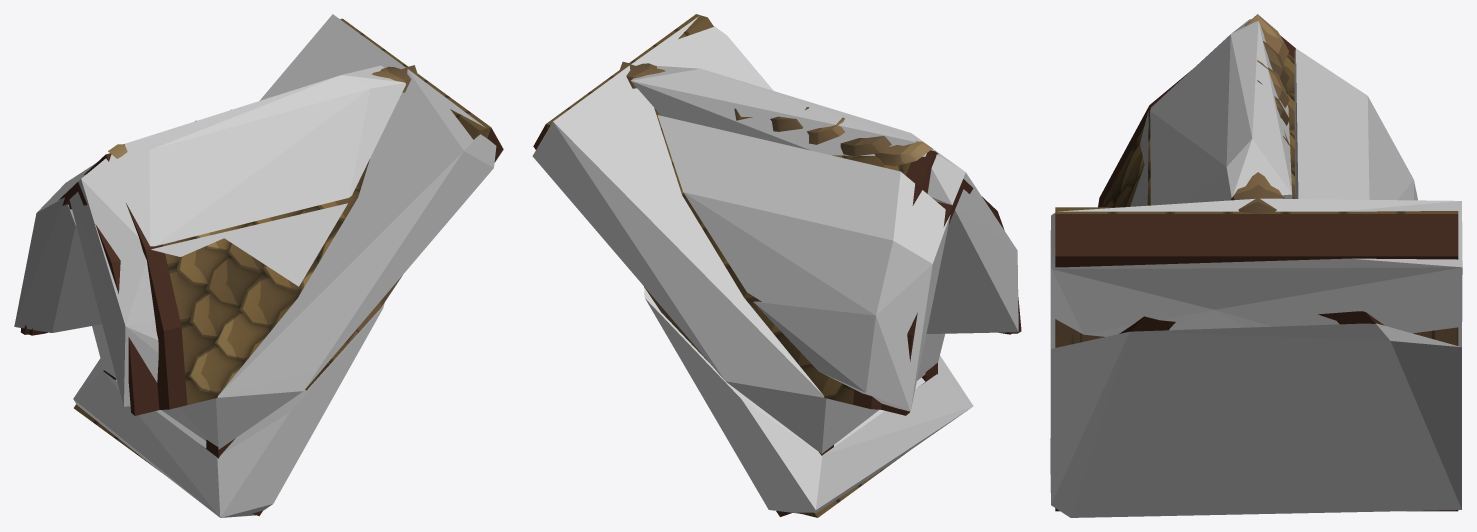
File: SM_Bld_Roof_Straight_Window_01.fbx
3 renders of one model, left to right at view 1: azimuth 30°, elevation 25°; view 2: azimuth 150°, elevation 25°; view 3: azimuth 270°, elevation 25°, orthographic. The views are drawn at different scales.
Visible parts, largest first — view 1: SM_Bld_Roof_Straight_Window_01_ConvexHulls, SM_Bld_Roof_Straight_Window_01; view 2: SM_Bld_Roof_Straight_Window_01_ConvexHulls, SM_Bld_Roof_Straight_Window_01; view 3: SM_Bld_Roof_Straight_Window_01_ConvexHulls, SM_Bld_Roof_Straight_Window_01.
Part boxes in pixels (bbox=[...]): SM_Bld_Roof_Straight_Window_01_ConvexHulls: bbox=[14, 14, 496, 517]; SM_Bld_Roof_Straight_Window_01: bbox=[20, 18, 503, 516]; SM_Bld_Roof_Straight_Window_01_ConvexHulls: bbox=[532, 16, 1018, 513]; SM_Bld_Roof_Straight_Window_01: bbox=[533, 14, 1021, 517]; SM_Bld_Roof_Straight_Window_01_ConvexHulls: bbox=[1050, 19, 1462, 517]; SM_Bld_Roof_Straight_Window_01: bbox=[1055, 14, 1458, 511].
Bounding box in the file's own units: 347 × 256 × 329.
Materials: 4 (3 with a texture image).
